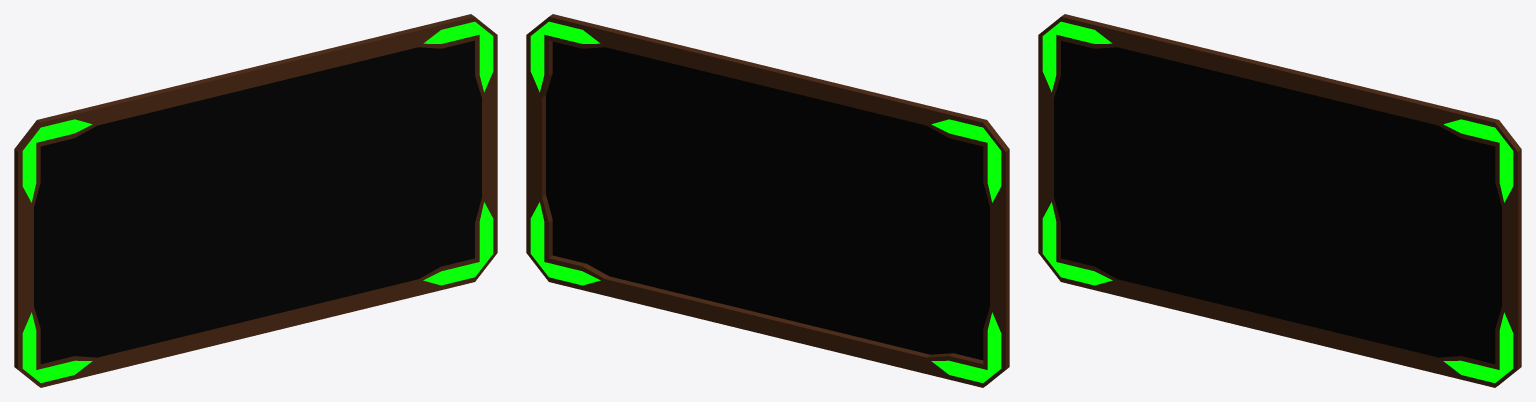
Rendered from MenuPanel3D.glb.
3 renders of one model, left to right at view 1: azimuth 30°, elevation 25°; view 2: azimuth 150°, elevation 25°; view 3: azimuth 330°, elevation 25°, orthographic.
Parts seen in each view (by area): view 1: ScreenFrame; view 2: ScreenFrame; view 3: ScreenFrame.
Part boxes in pixels (bbox=[...]): ScreenFrame: bbox=[14, 14, 497, 387]; ScreenFrame: bbox=[526, 14, 1009, 387]; ScreenFrame: bbox=[1038, 14, 1521, 387].
Size of the model in its own units: 2.12 by 1.12 by 0.03.
Materials: 1 (1 with a texture image).
